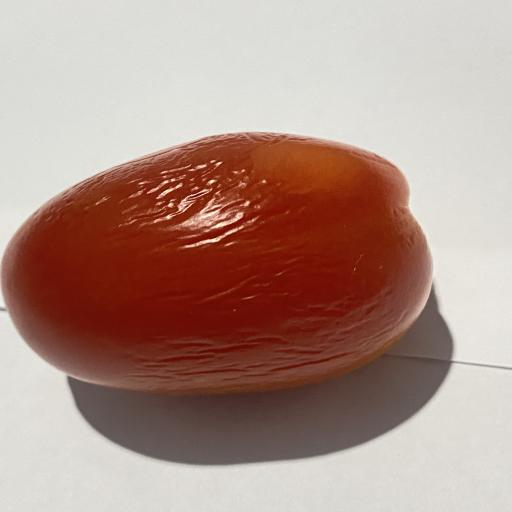spoiled: (1, 132, 432, 394), (2, 132, 432, 394)
